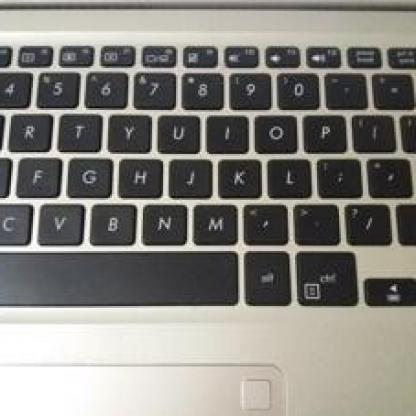keyboard: (0, 33, 414, 310)
